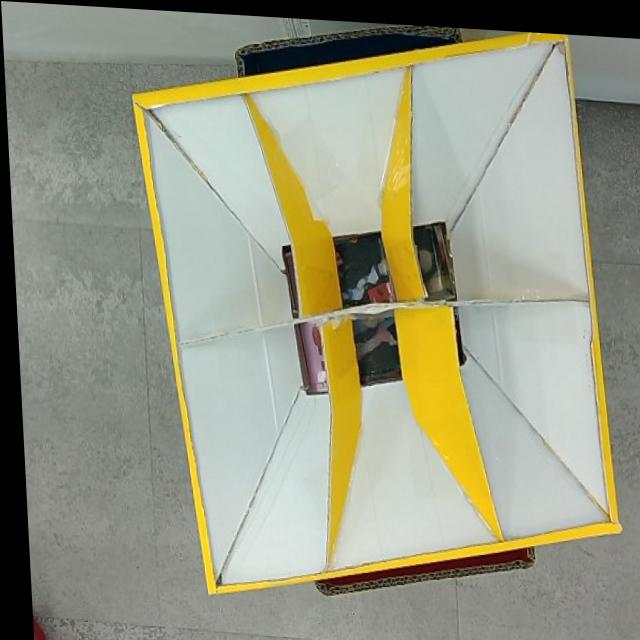box: (125, 6, 619, 614)
